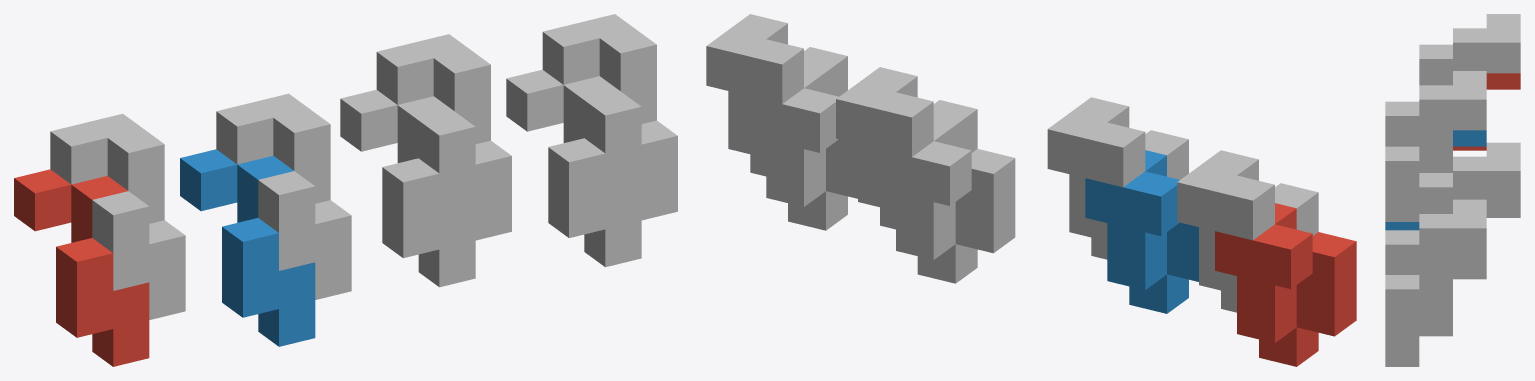
File: tiling.obj
3 renders of one model, left to right at view 1: azimuth 30°, elevation 25°; view 2: azimuth 150°, elevation 25°; view 3: azimuth 270°, elevation 25°, orthographic. The views are drawn at different scales.
Visible parts, largest first — view 1: copy_1_domain_7, copy_1_domain_4, copy_1_domain_3, copy_1_domain_8, copy_1_domain_6, copy_1_domain_5, copy_1_domain_1, copy_1_domain_2; view 2: copy_1_domain_5, copy_1_domain_1, copy_1_domain_2, copy_1_domain_6, copy_1_domain_4, copy_1_domain_8, copy_1_domain_7, copy_1_domain_3; view 3: copy_1_domain_8, copy_1_domain_4, copy_1_domain_3, copy_1_domain_7, copy_1_domain_6, copy_1_domain_2, copy_1_domain_1, copy_1_domain_5.
Part boxes in pixels (bbox=[...]): copy_1_domain_7: bbox=[376, 34, 511, 240]; copy_1_domain_4: bbox=[216, 93, 351, 299]; copy_1_domain_3: bbox=[50, 113, 185, 319]; copy_1_domain_8: bbox=[542, 14, 677, 220]; copy_1_domain_6: bbox=[506, 69, 641, 267]; copy_1_domain_5: bbox=[340, 89, 475, 287]; copy_1_domain_1: bbox=[14, 169, 149, 366]; copy_1_domain_2: bbox=[180, 149, 315, 346]; copy_1_domain_5: bbox=[874, 120, 1015, 283]; copy_1_domain_1: bbox=[1215, 203, 1356, 366]; copy_1_domain_2: bbox=[1085, 150, 1198, 313]; copy_1_domain_6: bbox=[744, 67, 857, 230]; copy_1_domain_4: bbox=[1047, 97, 1188, 259]; copy_1_domain_8: bbox=[706, 14, 847, 176]; copy_1_domain_7: bbox=[836, 67, 977, 229]; copy_1_domain_3: bbox=[1177, 150, 1318, 312]; copy_1_domain_8: bbox=[1385, 199, 1486, 350]; copy_1_domain_4: bbox=[1385, 71, 1486, 221]; copy_1_domain_3: bbox=[1419, 14, 1520, 85]; copy_1_domain_7: bbox=[1419, 142, 1520, 213]; copy_1_domain_6: bbox=[1385, 258, 1486, 366]; copy_1_domain_2: bbox=[1385, 130, 1486, 230]; copy_1_domain_1: bbox=[1453, 73, 1520, 150]; copy_1_domain_5: bbox=[1453, 201, 1520, 279].
Size of the model in its own units: 16 by 5 by 4.
